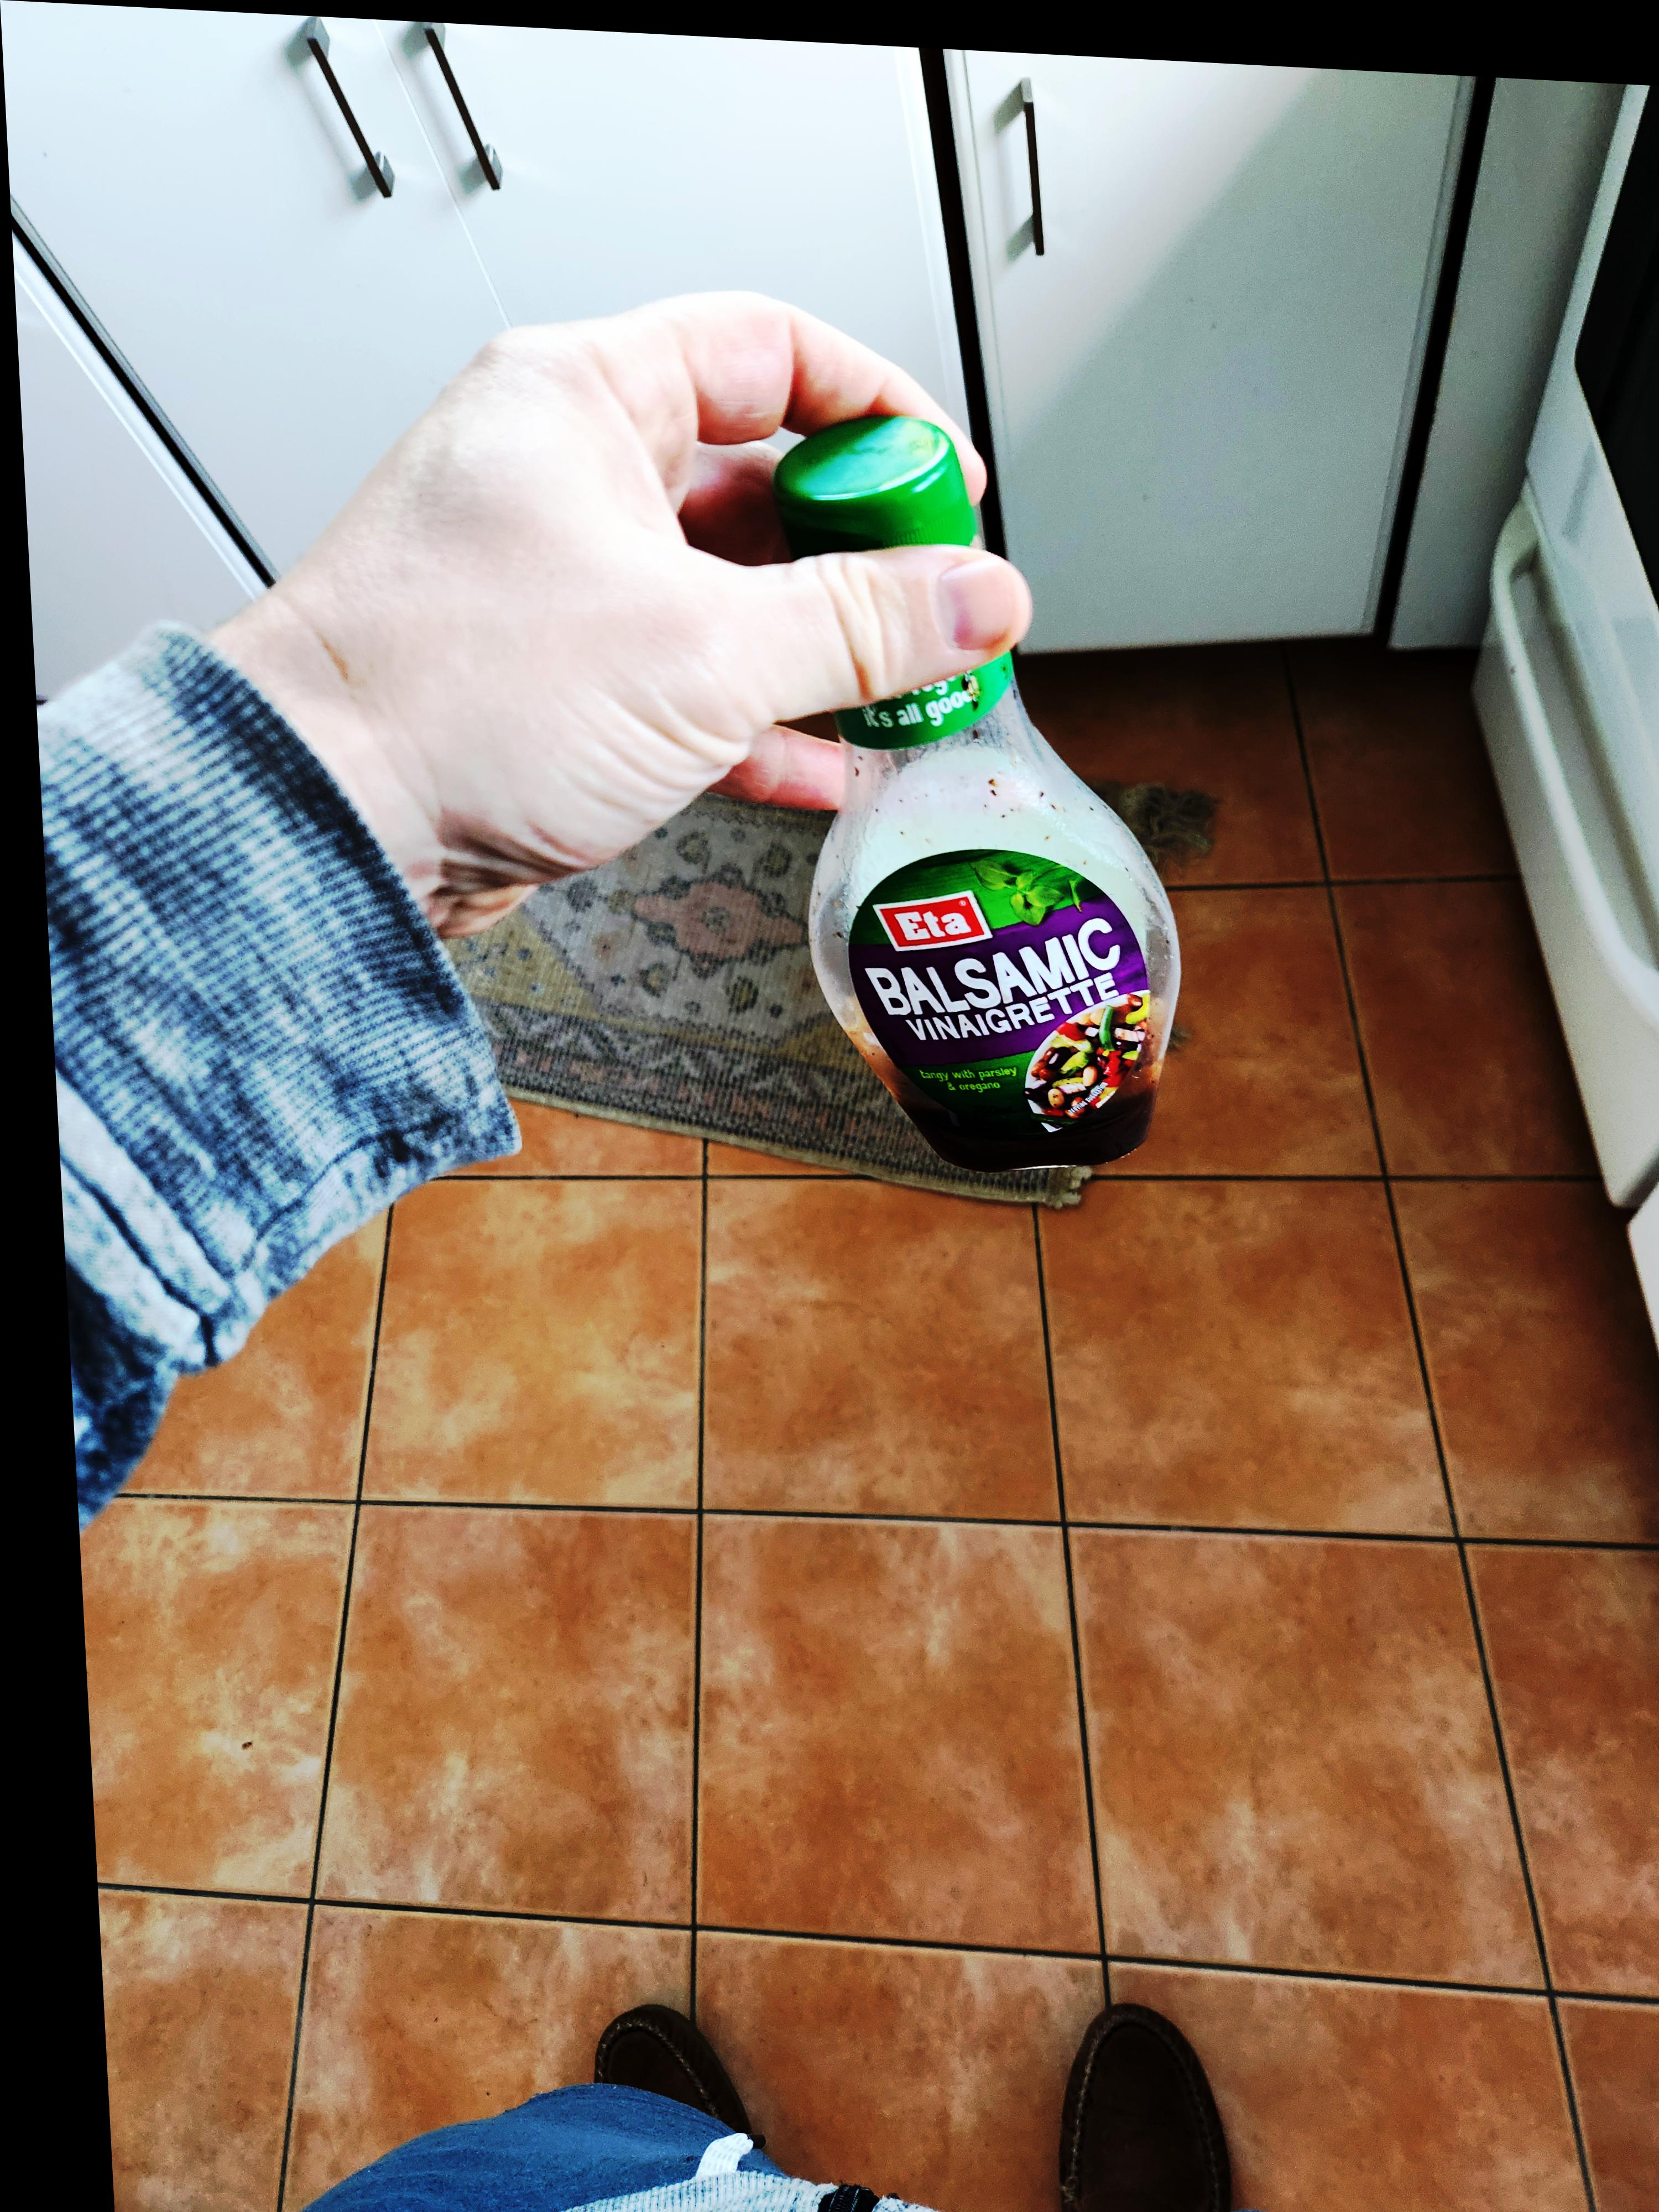balsamic vinaigrette: (575, 531, 889, 1554)
